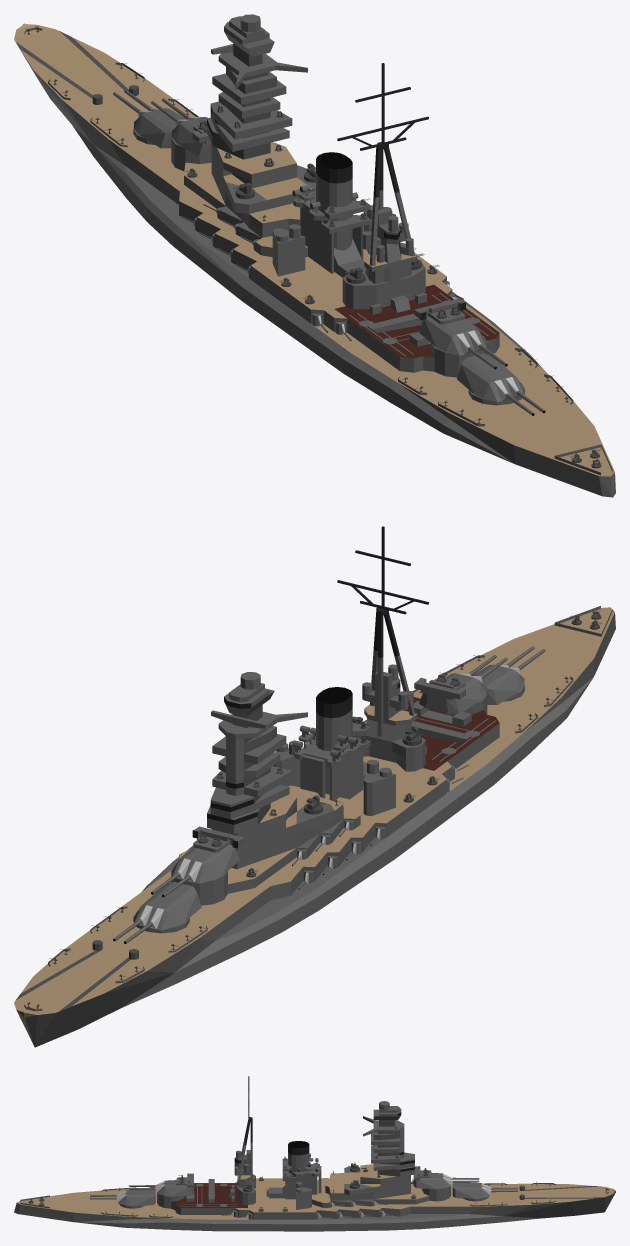
Rendered from nagato.obj.
The picture shows the model from 3 angles, top to bottom: view 1: azimuth 30°, elevation 25°; view 2: azimuth 150°, elevation 25°; view 3: azimuth 270°, elevation 25°; orthographic projection. The views are drawn at different scales.
Parts seen in each view (by area): view 1: ShapeIndexedFaceSet_ShapeIndexedFaceSet.001, ShapeIndexedFaceSet.007_ShapeIndexedFaceSet.008, ShapeIndexedFaceSet.001_ShapeIndexedFaceSet.002, ShapeIndexedFaceSet.004_ShapeIndexedFaceSet.005, ShapeIndexedFaceSet.039_ShapeIndexedFaceSet.040, ShapeIndexedFaceSet.028_ShapeIndexedFaceSet.029, ShapeIndexedFaceSet.006_ShapeIndexedFaceSet.007, ShapeIndexedFaceSet.014_ShapeIndexedFaceSet.015, ShapeIndexedFaceSet.017_ShapeIndexedFaceSet.018, ShapeIndexedFaceSet.012_ShapeIndexedFaceSet.013, ShapeIndexedFaceSet.009_ShapeIndexedFaceSet.010; view 2: ShapeIndexedFaceSet_ShapeIndexedFaceSet.001, ShapeIndexedFaceSet.007_ShapeIndexedFaceSet.008, ShapeIndexedFaceSet.004_ShapeIndexedFaceSet.005, ShapeIndexedFaceSet.028_ShapeIndexedFaceSet.029, ShapeIndexedFaceSet.014_ShapeIndexedFaceSet.015, ShapeIndexedFaceSet.017_ShapeIndexedFaceSet.018, ShapeIndexedFaceSet.001_ShapeIndexedFaceSet.002, ShapeIndexedFaceSet.039_ShapeIndexedFaceSet.040, ShapeIndexedFaceSet.012_ShapeIndexedFaceSet.013, ShapeIndexedFaceSet.009_ShapeIndexedFaceSet.010, ShapeIndexedFaceSet.002_ShapeIndexedFaceSet.003, ShapeIndexedFaceSet.010_ShapeIndexedFaceSet.011; view 3: ShapeIndexedFaceSet_ShapeIndexedFaceSet.001, ShapeIndexedFaceSet.007_ShapeIndexedFaceSet.008, ShapeIndexedFaceSet.001_ShapeIndexedFaceSet.002, ShapeIndexedFaceSet.014_ShapeIndexedFaceSet.015, ShapeIndexedFaceSet.039_ShapeIndexedFaceSet.040, ShapeIndexedFaceSet.017_ShapeIndexedFaceSet.018, ShapeIndexedFaceSet.028_ShapeIndexedFaceSet.029, ShapeIndexedFaceSet.006_ShapeIndexedFaceSet.007, ShapeIndexedFaceSet.012_ShapeIndexedFaceSet.013, ShapeIndexedFaceSet.004_ShapeIndexedFaceSet.005, ShapeIndexedFaceSet.009_ShapeIndexedFaceSet.010.
Boxes of the visible parts, x1,y1,x2,y2 form: ShapeIndexedFaceSet_ShapeIndexedFaceSet.001: (17,14,615,497); ShapeIndexedFaceSet.007_ShapeIndexedFaceSet.008: (14,24,614,476); ShapeIndexedFaceSet.001_ShapeIndexedFaceSet.002: (335,284,499,358); ShapeIndexedFaceSet.004_ShapeIndexedFaceSet.005: (316,63,428,197); ShapeIndexedFaceSet.039_ShapeIndexedFaceSet.040: (457,353,544,415); ShapeIndexedFaceSet.028_ShapeIndexedFaceSet.029: (414,298,506,368); ShapeIndexedFaceSet.006_ShapeIndexedFaceSet.007: (212,43,270,183); ShapeIndexedFaceSet.014_ShapeIndexedFaceSet.015: (113,89,186,148); ShapeIndexedFaceSet.017_ShapeIndexedFaceSet.018: (151,98,211,157); ShapeIndexedFaceSet.012_ShapeIndexedFaceSet.013: (349,292,496,356); ShapeIndexedFaceSet.009_ShapeIndexedFaceSet.010: (16,31,138,104); ShapeIndexedFaceSet_ShapeIndexedFaceSet.001: (16,612,615,1047); ShapeIndexedFaceSet.007_ShapeIndexedFaceSet.008: (14,607,614,1014); ShapeIndexedFaceSet.004_ShapeIndexedFaceSet.005: (316,526,428,718); ShapeIndexedFaceSet.028_ShapeIndexedFaceSet.029: (414,655,507,713); ShapeIndexedFaceSet.014_ShapeIndexedFaceSet.015: (114,882,201,943); ShapeIndexedFaceSet.017_ShapeIndexedFaceSet.018: (152,826,244,896); ShapeIndexedFaceSet.001_ShapeIndexedFaceSet.002: (403,697,499,770); ShapeIndexedFaceSet.039_ShapeIndexedFaceSet.040: (472,646,545,704); ShapeIndexedFaceSet.012_ShapeIndexedFaceSet.013: (413,701,496,761); ShapeIndexedFaceSet.009_ShapeIndexedFaceSet.010: (15,940,138,1010); ShapeIndexedFaceSet.002_ShapeIndexedFaceSet.003: (207,683,400,824); ShapeIndexedFaceSet.010_ShapeIndexedFaceSet.011: (292,725,356,761); ShapeIndexedFaceSet_ShapeIndexedFaceSet.001: (14,1101,615,1231); ShapeIndexedFaceSet.007_ShapeIndexedFaceSet.008: (17,1164,615,1219); ShapeIndexedFaceSet.001_ShapeIndexedFaceSet.002: (172,1183,247,1207); ShapeIndexedFaceSet.014_ShapeIndexedFaceSet.015: (452,1182,517,1198); ShapeIndexedFaceSet.039_ShapeIndexedFaceSet.040: (90,1189,155,1205); ShapeIndexedFaceSet.017_ShapeIndexedFaceSet.018: (413,1166,479,1188); ShapeIndexedFaceSet.028_ShapeIndexedFaceSet.029: (128,1173,193,1196); ShapeIndexedFaceSet.006_ShapeIndexedFaceSet.007: (360,1120,400,1183); ShapeIndexedFaceSet.012_ShapeIndexedFaceSet.013: (180,1183,236,1206); ShapeIndexedFaceSet.004_ShapeIndexedFaceSet.005: (244,1076,309,1155); ShapeIndexedFaceSet.009_ShapeIndexedFaceSet.010: (519,1185,601,1199).
Bounding box in the file's own units: 126 × 207 × 833.
